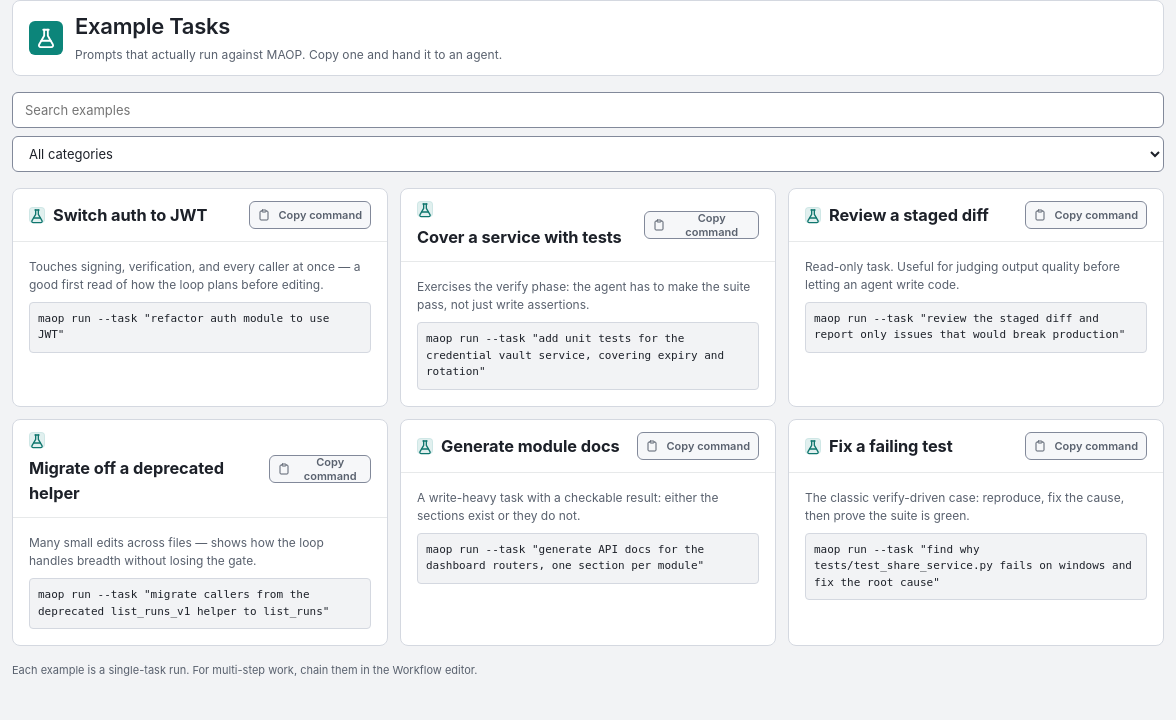
Examples.vue › filters by category
Select "Docs" in the dropdown at (588, 154), box [12,136,1164,172]
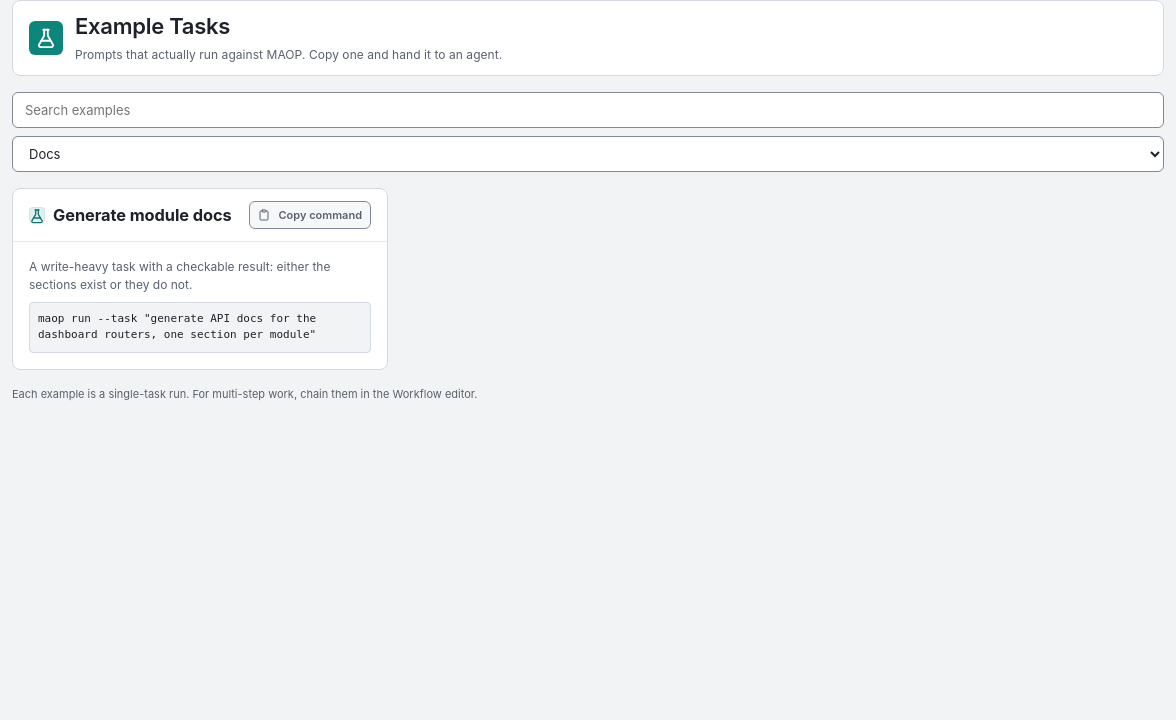
Expected: the text with class "ex-cmd" shows "generate API docs", [38,312,323,341]
Expected: the number of elements with class "ex-cmd" is 1, [29,302,371,353]
